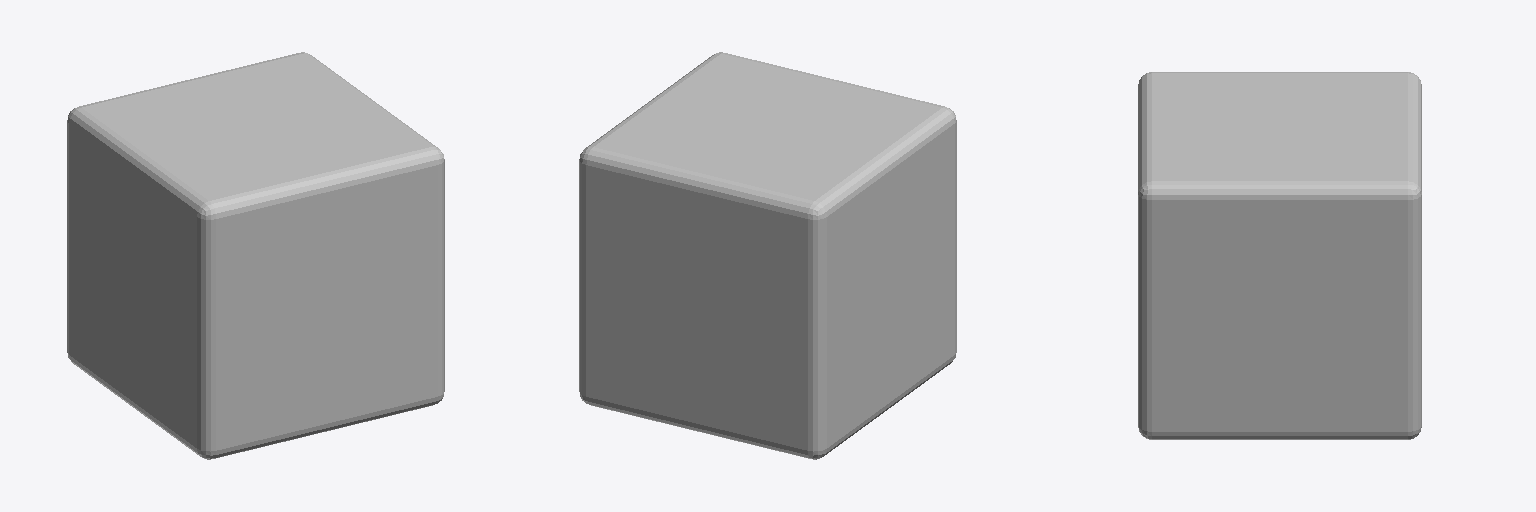
The model's file is Block.obj.
The picture shows the model from 3 angles: view 1: azimuth 30°, elevation 25°; view 2: azimuth 150°, elevation 25°; view 3: azimuth 270°, elevation 25°; orthographic projection.
Visible parts, largest first — view 1: pCube1; view 2: pCube1; view 3: pCube1.
Boxes of the visible parts, x1=… form: pCube1: x1=67, y1=52, x2=444, y2=459; pCube1: x1=579, y1=52, x2=956, y2=459; pCube1: x1=1138, y1=72, x2=1421, y2=439.
Bounding box in the file's own units: 19.22 × 19.22 × 19.22.